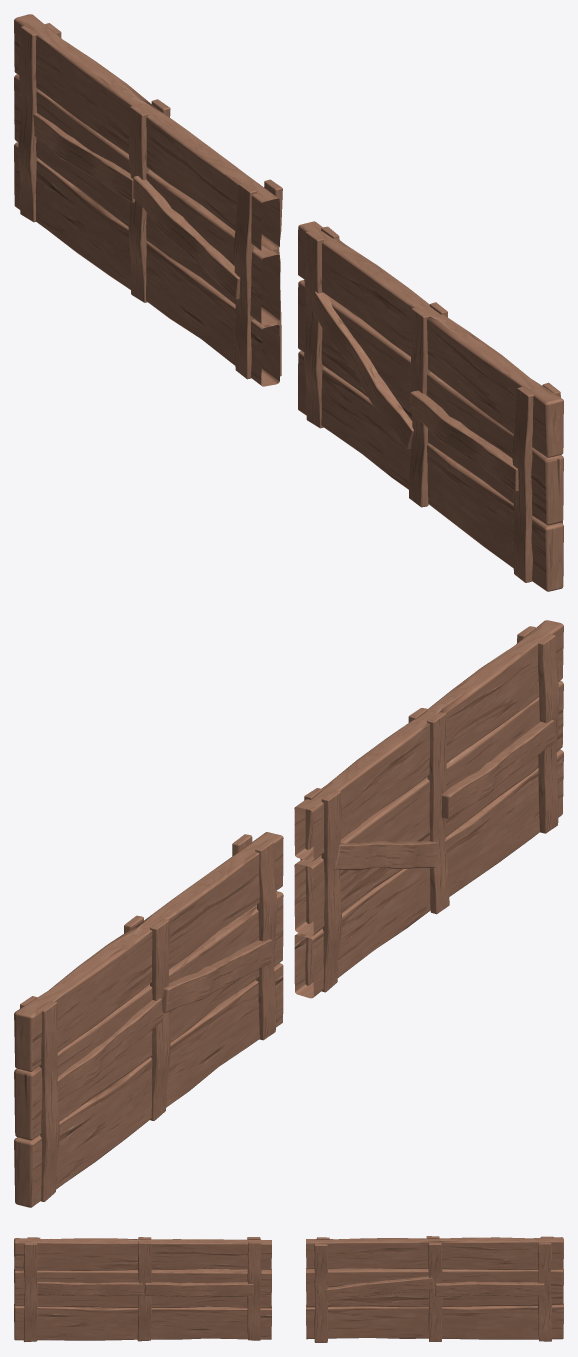
File: SM_Plank_01.fbx
3 views of the same model, one above another, from view 1: azimuth 30°, elevation 25°; view 2: azimuth 150°, elevation 25°; view 3: azimuth 270°, elevation 25° (orthographic). The views are drawn at different scales.
Visible parts, largest first — view 1: SM_Plank_01; view 2: SM_Plank_01; view 3: SM_Plank_01.
Part boxes in pixels (bbox=[...]): SM_Plank_01: bbox=[14, 14, 563, 591]; SM_Plank_01: bbox=[14, 620, 563, 1207]; SM_Plank_01: bbox=[14, 1236, 563, 1342].
Size of the model in its own units: 65.45 by 1335 by 267.
2 materials, 2 textured.
